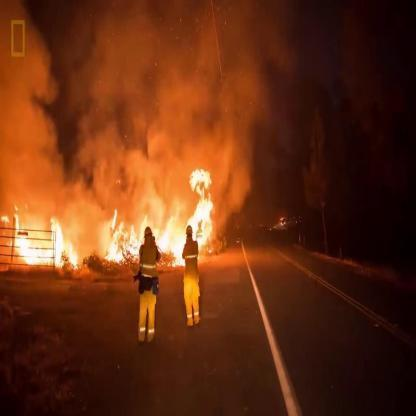Fire: (0, 160, 245, 288)
Smoke: (0, 0, 290, 208)
